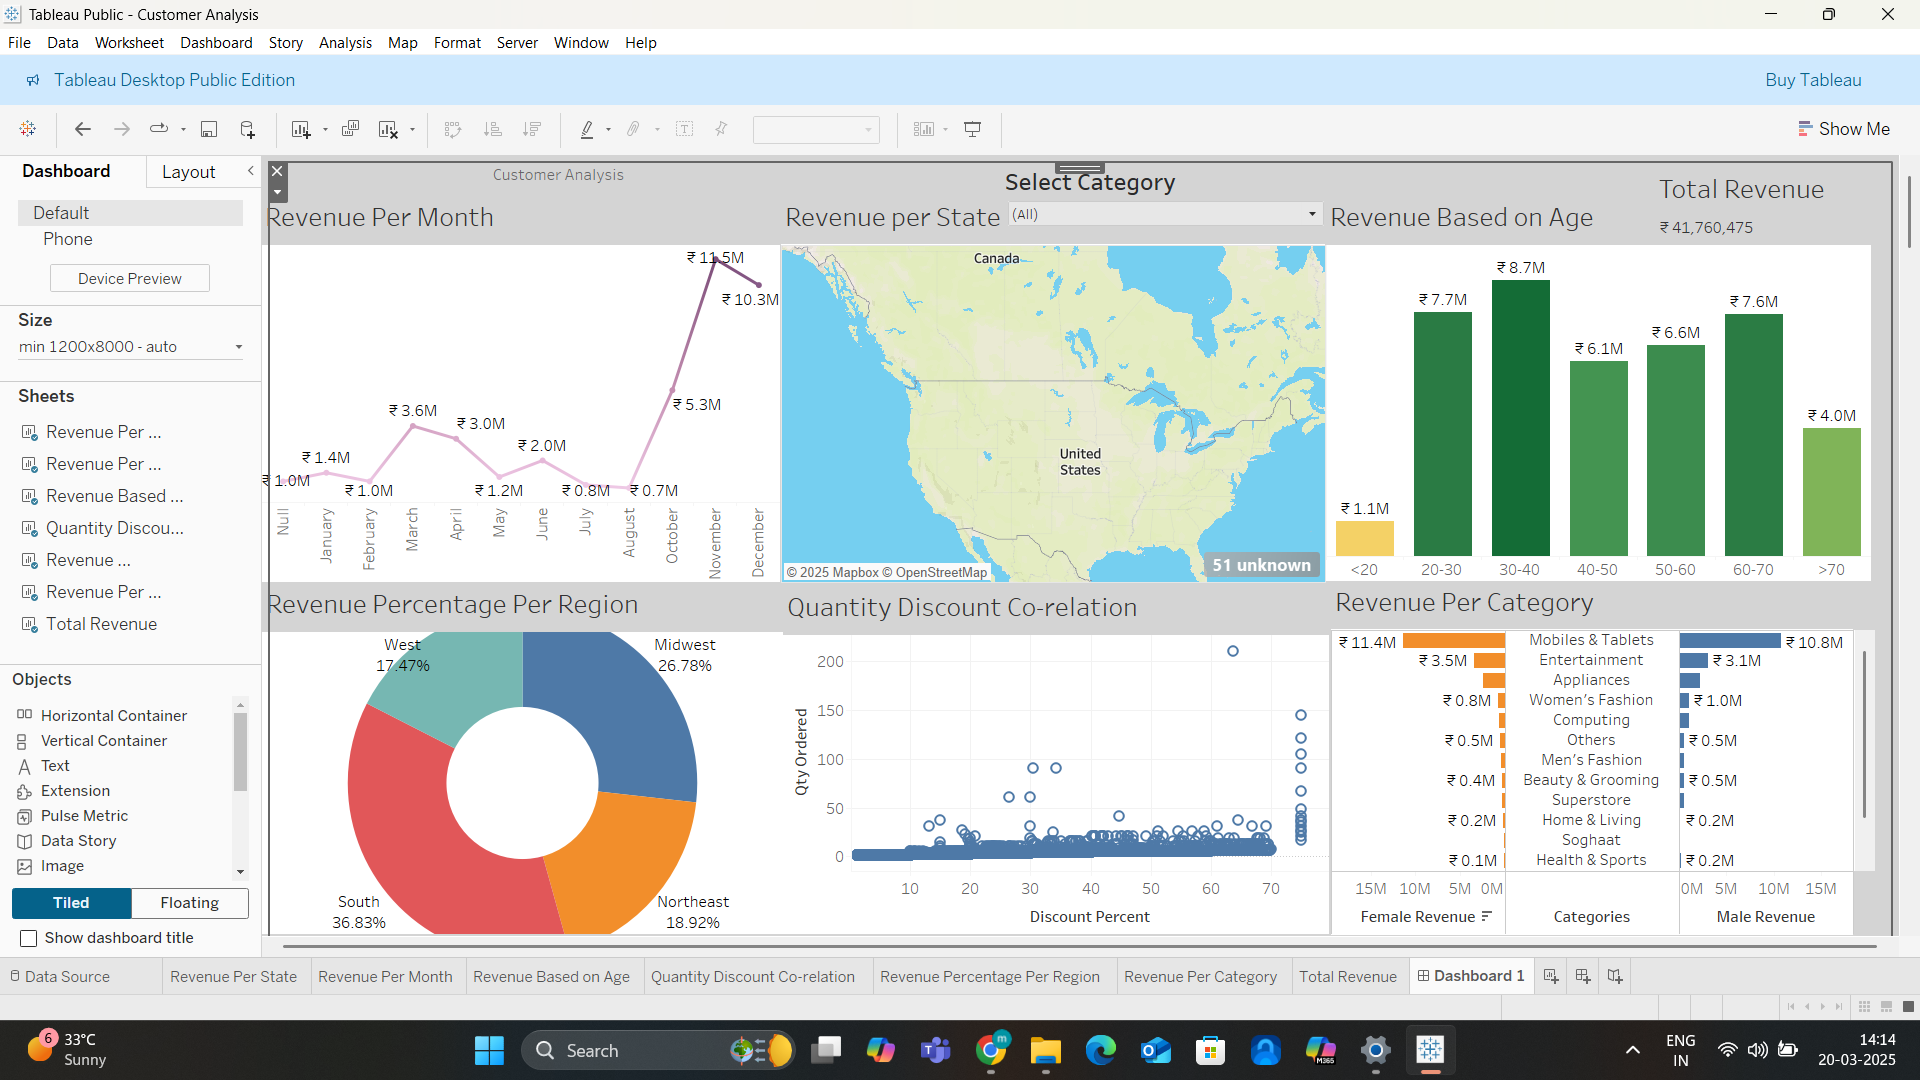

The dashboard page shown, as its layout file describes it:
{"tool":"tableau","page":{"name":"Dashboard 1","canvas":[1000,1000],"units":"permille","ordinal":0},"visuals":[{"type":"text","box":[18.3,0,325.6,4.8]},{"type":"text","box":[4.9,1,990.2,499]},{"type":"filter","title":"Revenue Per Category","param":"[federated.19gamqc0uyrls412io96u09po527].[none:category:nk]","box":[453.9,1.2,196.7,8.8]},{"type":"worksheet","title":"Total Revenue","mark":"Automatic","box":[851,1.5,130.7,8.9]},{"type":"worksheet","title":"Revenue Per State","mark":"Automatic","box":[317,5,332.9,48.5]},{"type":"worksheet","title":"Revenue Based on Age","mark":"Automatic","rows":["total"],"cols":["Age (bin)"],"box":[650,5,332.9,48.2]},{"type":"worksheet","title":"Revenue Per Category","mark":"Automatic","rows":["category"],"cols":["Calculation_509188267080073217","Calculation_509188267077668864","Calculation_509188267080482818"],"box":[653,53.1,332.9,44.4]},{"type":"worksheet","title":"Revenue Percentage Per Region","mark":"Pie","rows":["Calculation_509188267077668864","Calculation_509188267077668864"],"box":[0,53.4,318.3,44]},{"type":"worksheet","title":"Quantity Discount Co-relation","mark":"Automatic","rows":["qty_ordered"],"cols":["Discount_Percent"],"box":[318.3,53.8,333.5,43.6]},{"type":"legend","title":"Revenue Per State","param":"[federated.19gamqc0uyrls412io96u09po527].[sum:total:qk]","box":[897.4,500,97.7,9.1]},{"type":"legend","title":"Revenue Percentage Per Region","param":"[federated.19gamqc0uyrls412io96u09po527].[none:Region:nk]","box":[897.4,509.1,97.7,14.2]},{"type":"legend","title":"Revenue Percentage Per Region","param":"[federated.19gamqc0uyrls412io96u09po527].[sum:total:qk]","box":[897.4,523.4,97.7,6.4]},{"type":"text","box":[897.4,529.8,97.7,3.6]}]}

Visuals, with their boxes on the dashboard's canvas, which has no fixed pixel size, in thousandths of its width and height (x1, y1, x2, y2). These are canvas units, not pixel positions in the 1920x1080 screenshot, which may show the page scaled, cropped or inside an application window:
text: left=18, top=0, right=344, bottom=5
text: left=5, top=1, right=995, bottom=500
"Revenue Per Category" filter: left=454, top=1, right=651, bottom=10
"Total Revenue" worksheet: left=851, top=2, right=982, bottom=10
"Revenue Per State" worksheet: left=317, top=5, right=650, bottom=54
"Revenue Based on Age" worksheet: left=650, top=5, right=983, bottom=53
"Revenue Per Category" worksheet: left=653, top=53, right=986, bottom=98
"Revenue Percentage Per Region" worksheet (Pie marks): left=0, top=53, right=318, bottom=97
"Quantity Discount Co-relation" worksheet: left=318, top=54, right=652, bottom=97
"Revenue Per State" legend: left=897, top=500, right=995, bottom=509
"Revenue Percentage Per Region" legend: left=897, top=509, right=995, bottom=523
"Revenue Percentage Per Region" legend: left=897, top=523, right=995, bottom=530
text: left=897, top=530, right=995, bottom=533
